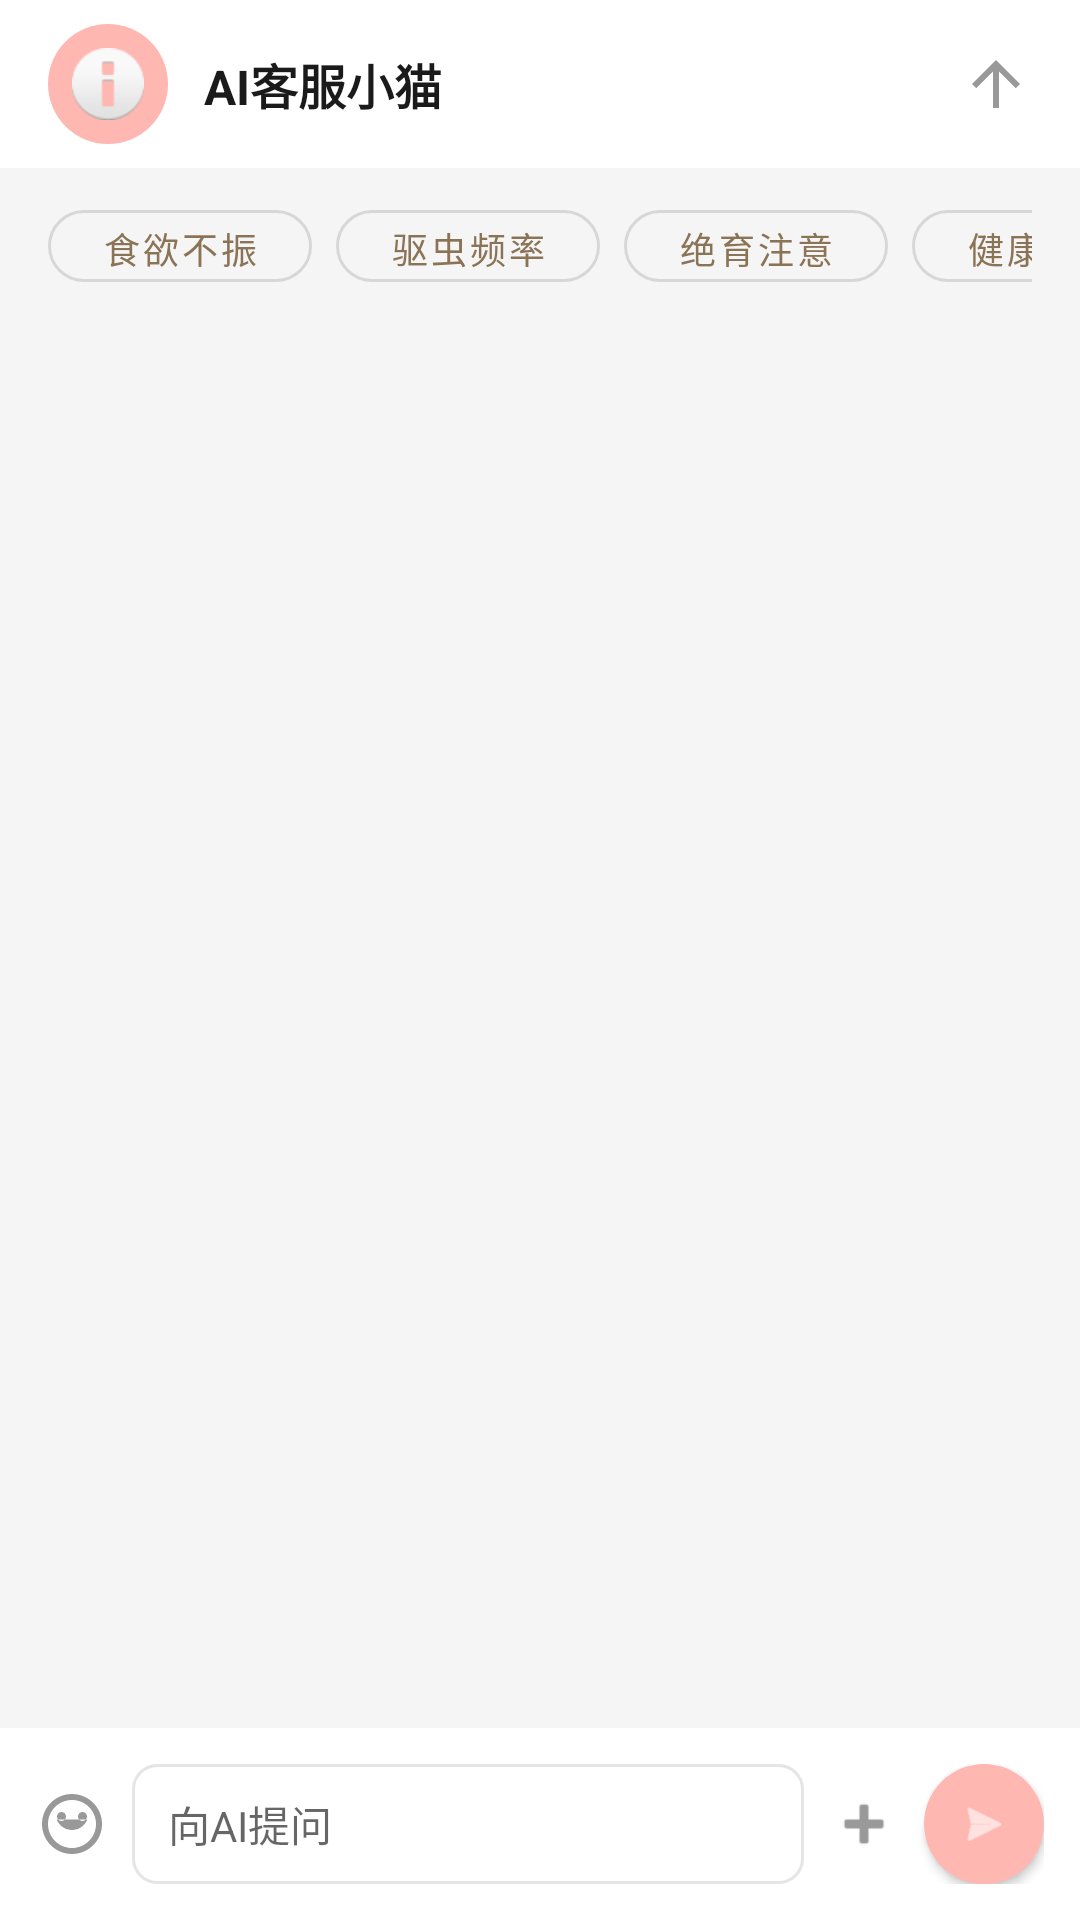

Icon bounding boxes for this 1080*1920 phone screenshot, format region(x1, y1, x2, y2):
add: region(844, 1804, 884, 1844)
发送: region(924, 1764, 1044, 1884)
表情: region(42, 1794, 102, 1854)
